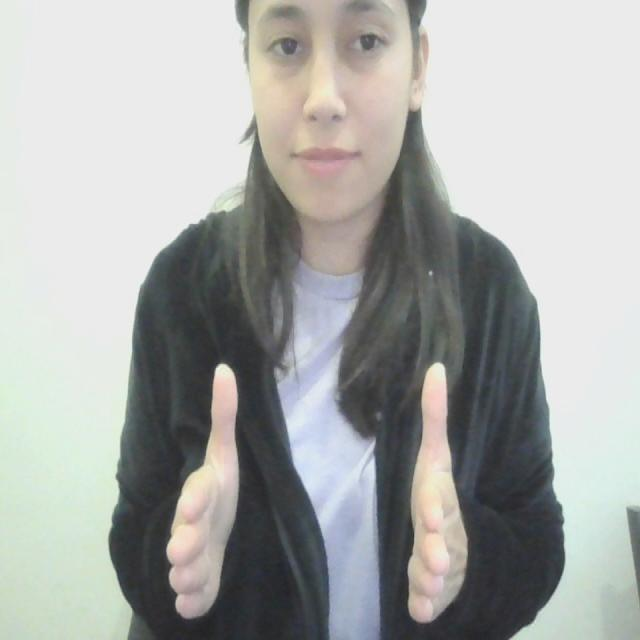Nasil: (161, 358, 465, 630)
